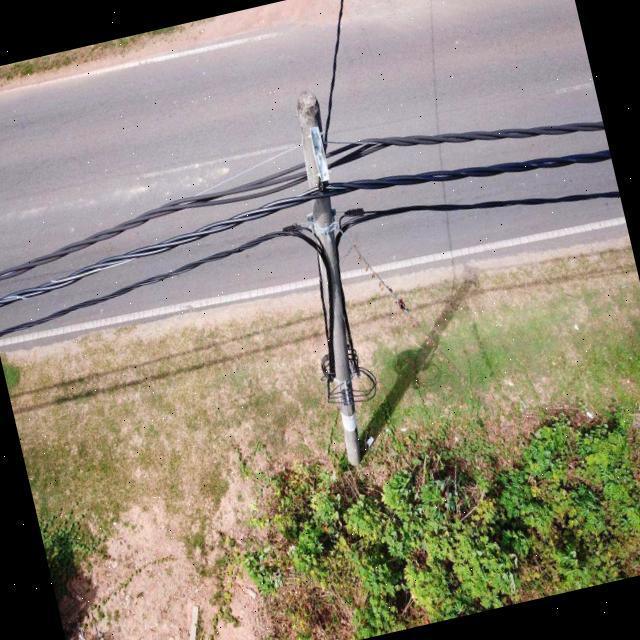critical vegetation: (341, 210, 478, 412)
